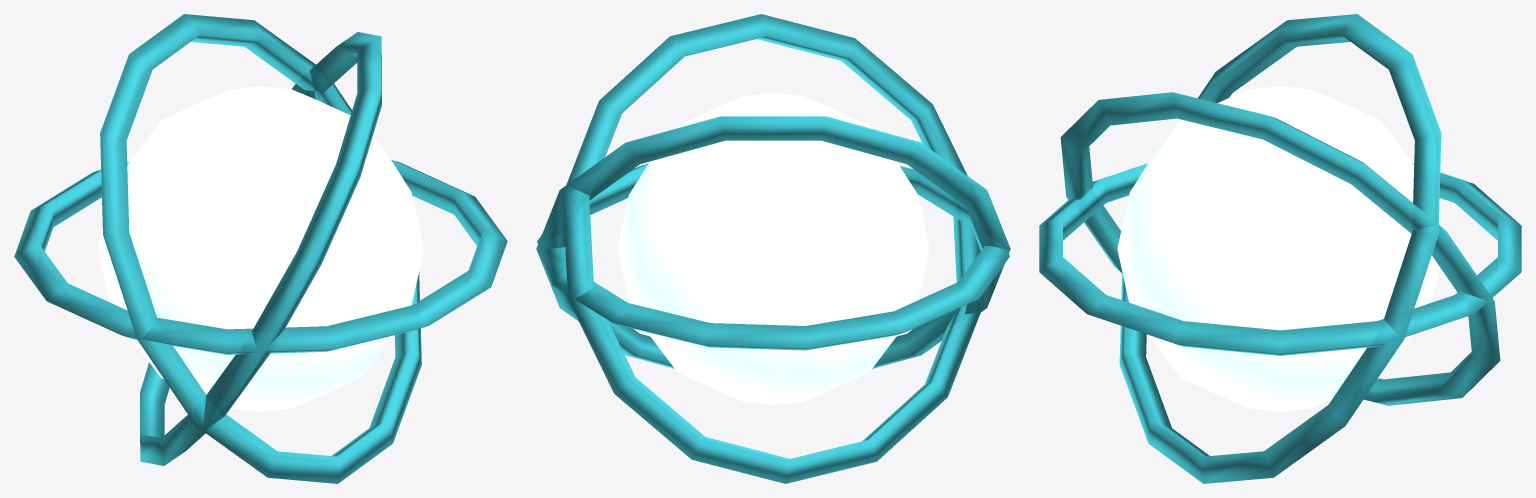
File: AquaSurge.fbx
3 renders of one model, left to right at view 1: azimuth 30°, elevation 25°; view 2: azimuth 150°, elevation 25°; view 3: azimuth 270°, elevation 25°, orthographic. The views are drawn at different scales.
Parts seen in each view (by area): view 1: AquaSurge; view 2: AquaSurge; view 3: AquaSurge.
Boxes of the visible parts, left/top/right/bottom form: AquaSurge: left=14, top=14, right=507, bottom=483; AquaSurge: left=536, top=14, right=1010, bottom=483; AquaSurge: left=1039, top=14, right=1521, bottom=483.
Size of the model in its own units: 0.182 by 0.1537 by 0.1774.
